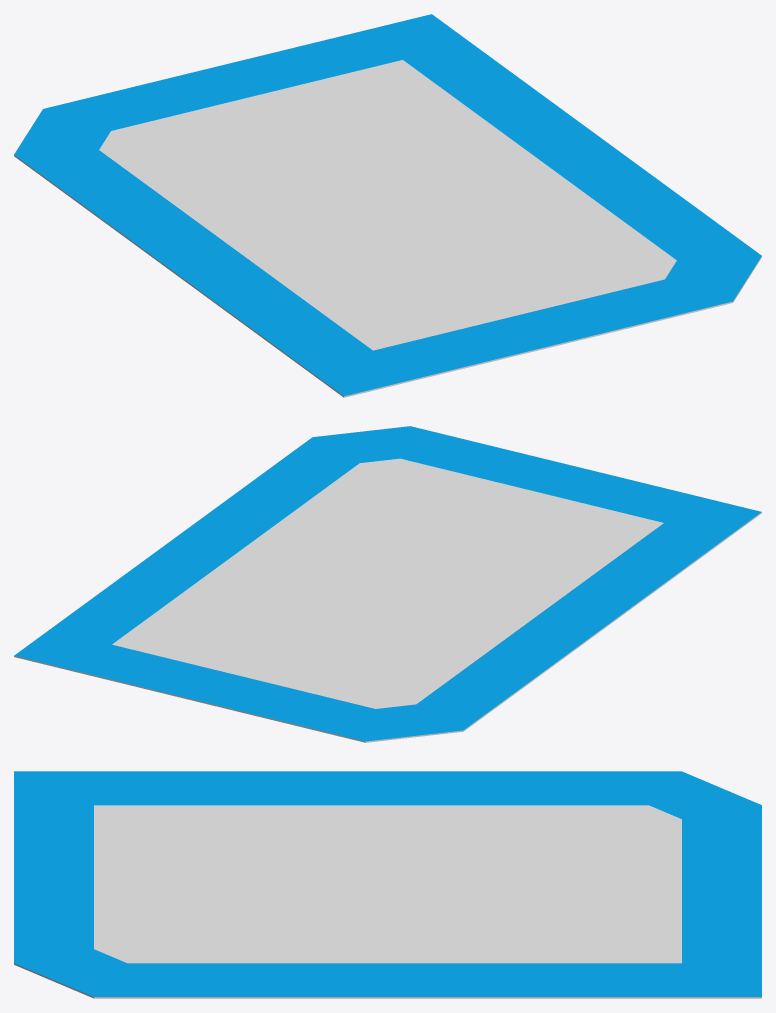
The model's file is Capturellection Card.fbx.
The picture shows the model from 3 angles, top to bottom: view 1: azimuth 30°, elevation 25°; view 2: azimuth 150°, elevation 25°; view 3: azimuth 270°, elevation 25°; orthographic projection. The views are drawn at different scales.
Visible parts, largest first — view 1: Cube.002; view 2: Cube.002; view 3: Cube.002.
Part boxes in pixels (x1,y1,x2,y2): Cube.002: (14,14,761,397); Cube.002: (14,426,761,742); Cube.002: (14,771,761,998).
Size of the model in its own units: 0.0635 by 0.0002 by 0.0889.
